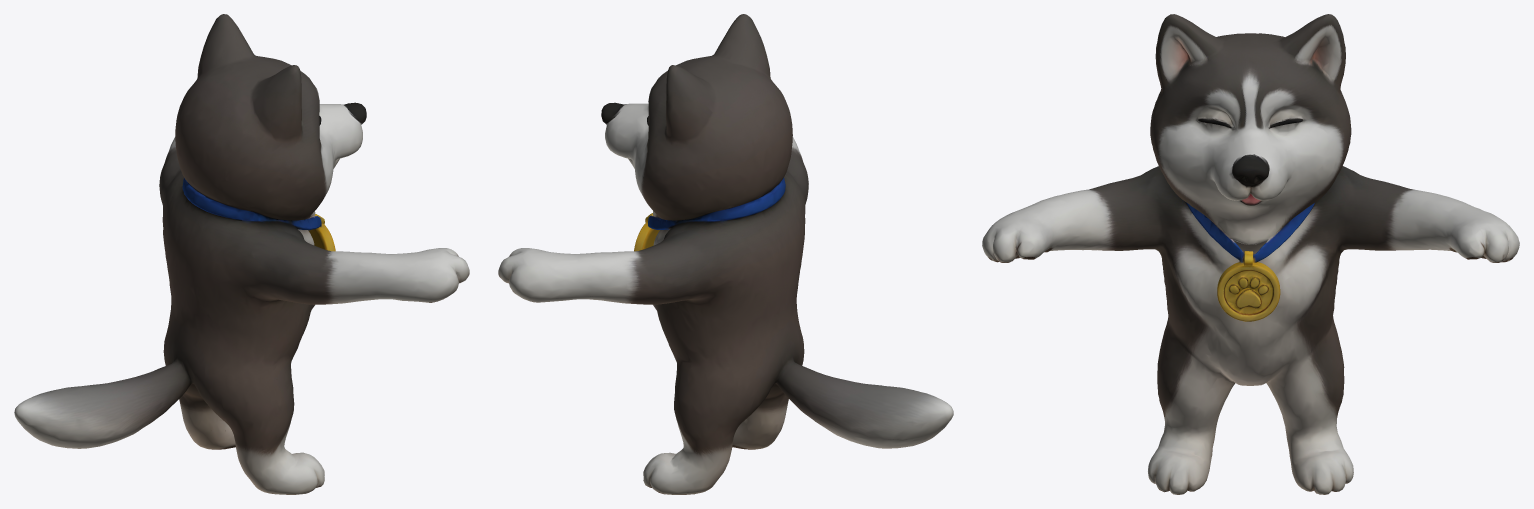
The model's file is husky_static.glb.
The picture shows the model from 3 angles, left to right: view 1: azimuth 30°, elevation 25°; view 2: azimuth 150°, elevation 25°; view 3: azimuth 270°, elevation 25°; orthographic projection. The views are drawn at different scales.
Visible parts, largest first — view 1: tripo_node_88878724-4dd1-4005-81b0-7abb08b97fee; view 2: tripo_node_88878724-4dd1-4005-81b0-7abb08b97fee; view 3: tripo_node_88878724-4dd1-4005-81b0-7abb08b97fee.
Boxes of the visible parts, left/top/right/bottom form: tripo_node_88878724-4dd1-4005-81b0-7abb08b97fee: left=14, top=14, right=469, bottom=494; tripo_node_88878724-4dd1-4005-81b0-7abb08b97fee: left=498, top=14, right=953, bottom=494; tripo_node_88878724-4dd1-4005-81b0-7abb08b97fee: left=982, top=14, right=1519, bottom=494.
Bounding box in the file's own units: 0.8258 × 0.9609 × 1.
Materials: 1 (1 with a texture image).
